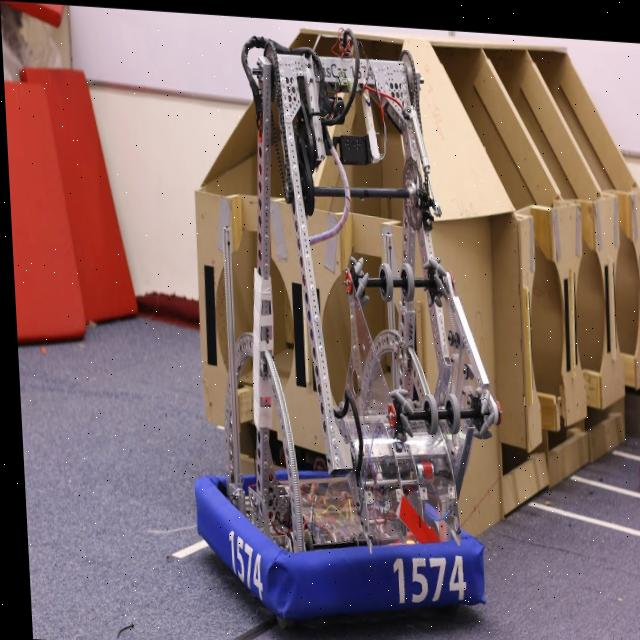robot: (168, 25, 484, 632)
